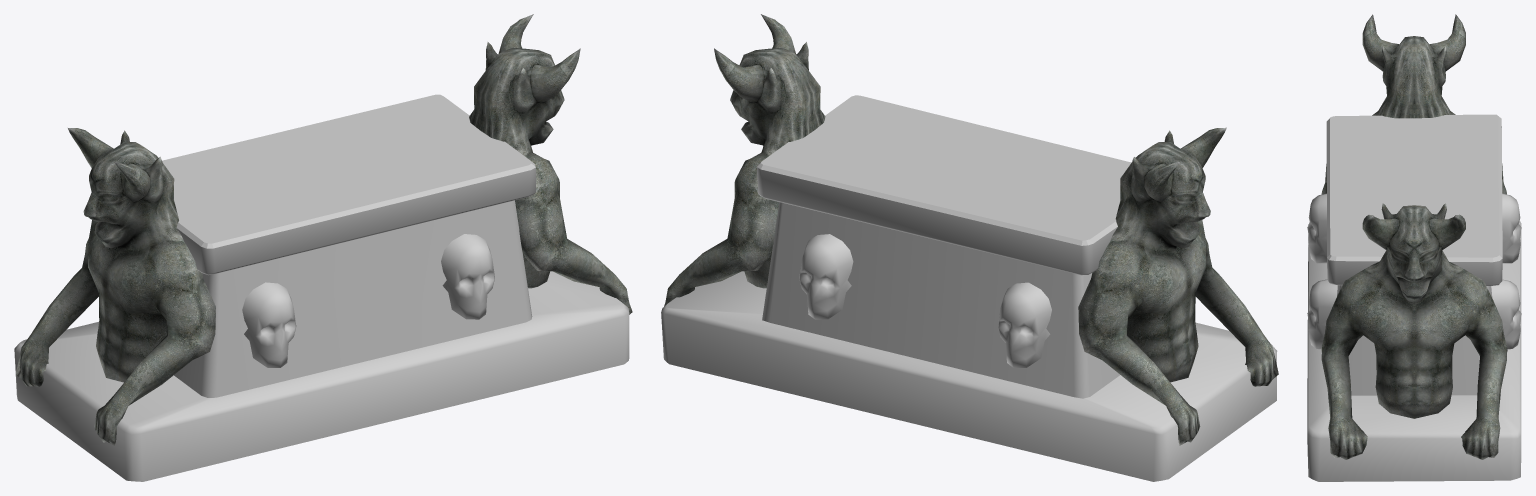
File: Altar_1.FBX
3 renders of one model, left to right at view 1: azimuth 30°, elevation 25°; view 2: azimuth 150°, elevation 25°; view 3: azimuth 270°, elevation 25°, orthographic. The views are drawn at different scales.
Parts seen in each view (by area): view 1: default; view 2: default; view 3: default.
Boxes of the visible parts, x1,y1,x2,y2 form: default: (14, 14, 632, 481); default: (661, 14, 1278, 481); default: (1307, 14, 1521, 481).
Size of the model in its own units: 8.01 by 4.23 by 3.18.
